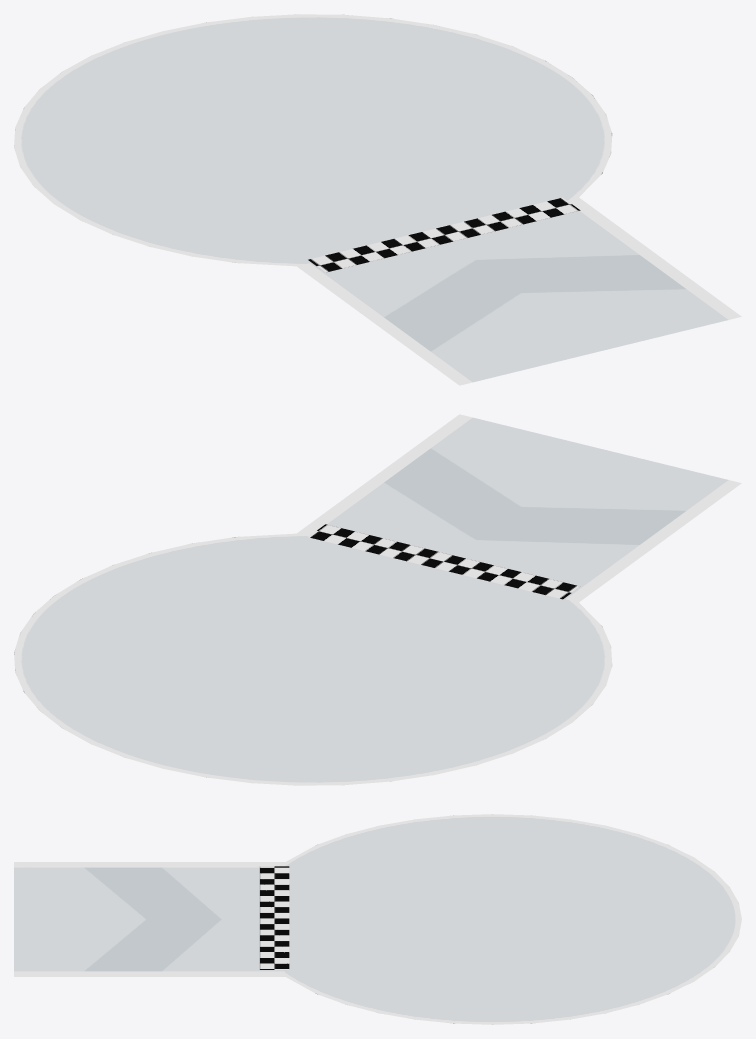
The model's file is boss-scene1.fbx.
3 views of the same model, one above another, from view 1: azimuth 30°, elevation 25°; view 2: azimuth 150°, elevation 25°; view 3: azimuth 270°, elevation 25° (orthographic). The views are drawn at different scales.
Visible parts, largest first — view 1: boss-scene, path, gate.001; view 2: boss-scene, path, gate.001; view 3: boss-scene, path, gate.001.
Boxes of the visible parts, x1,y1,x2,y2 form: boss-scene: (14, 14, 612, 266); path: (297, 197, 741, 385); gate.001: (308, 197, 580, 272); boss-scene: (14, 533, 612, 785); path: (297, 414, 741, 602); gate.001: (308, 524, 580, 599); boss-scene: (285, 814, 741, 1024); path: (14, 862, 285, 976); gate.001: (259, 866, 289, 969).
Bounding box in the file's own units: 3.67 × 0.0102 × 5.37.
Materials: 3 (3 with a texture image).
